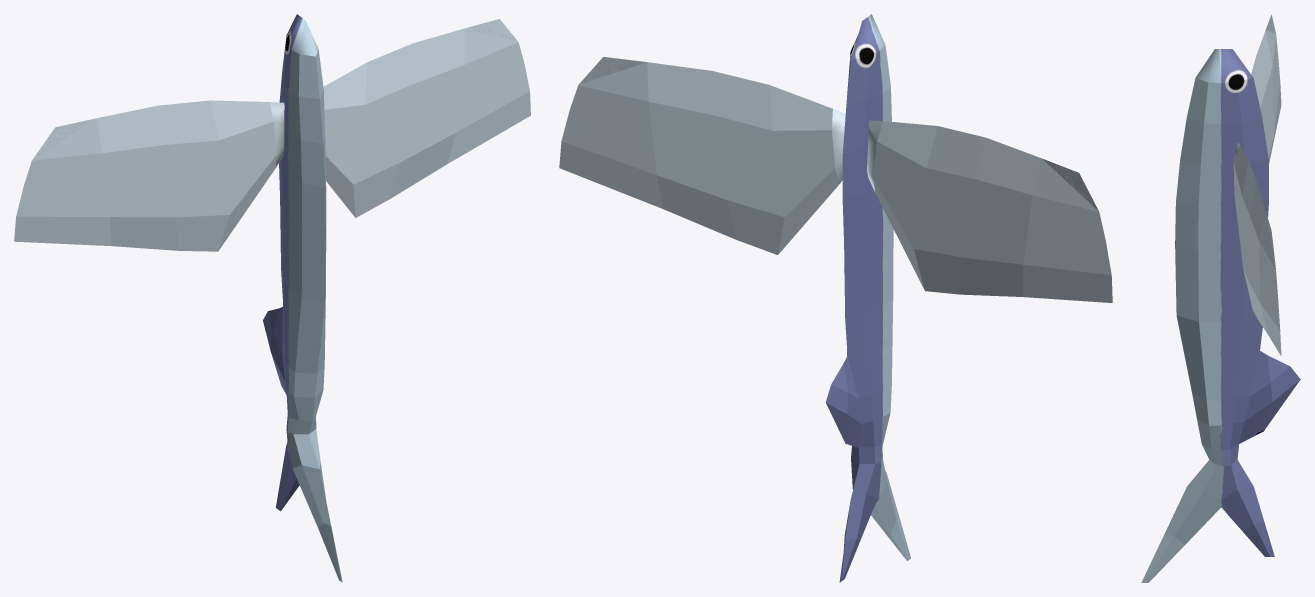
The model's file is flyingfish.fbx.
The picture shows the model from 3 angles, left to right: view 1: azimuth 30°, elevation 25°; view 2: azimuth 150°, elevation 25°; view 3: azimuth 270°, elevation 25°; orthographic projection. The views are drawn at different scales.
Visible parts, largest first — view 1: Rectangle001; view 2: Rectangle001; view 3: Rectangle001.
Part boxes in pixels (x1=…): Rectangle001: x1=14, y1=14, x2=530, y2=582; Rectangle001: x1=559, y1=14, x2=1112, y2=582; Rectangle001: x1=1141, y1=14, x2=1300, y2=582.
Bounding box in the file's own units: 420 × 416 × 112.
